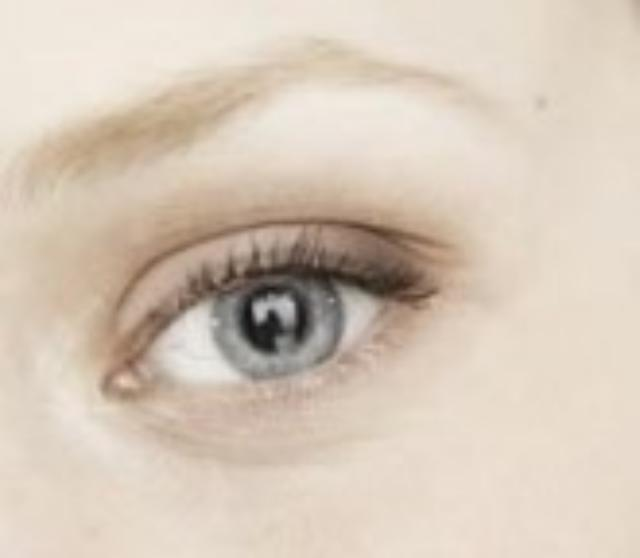eye: (205, 266, 349, 376)
